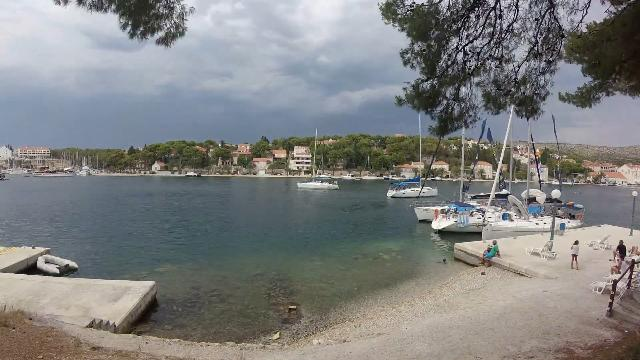Freighter: (28, 162, 80, 180)
Sailboat: (382, 172, 444, 202), (292, 175, 344, 192)
